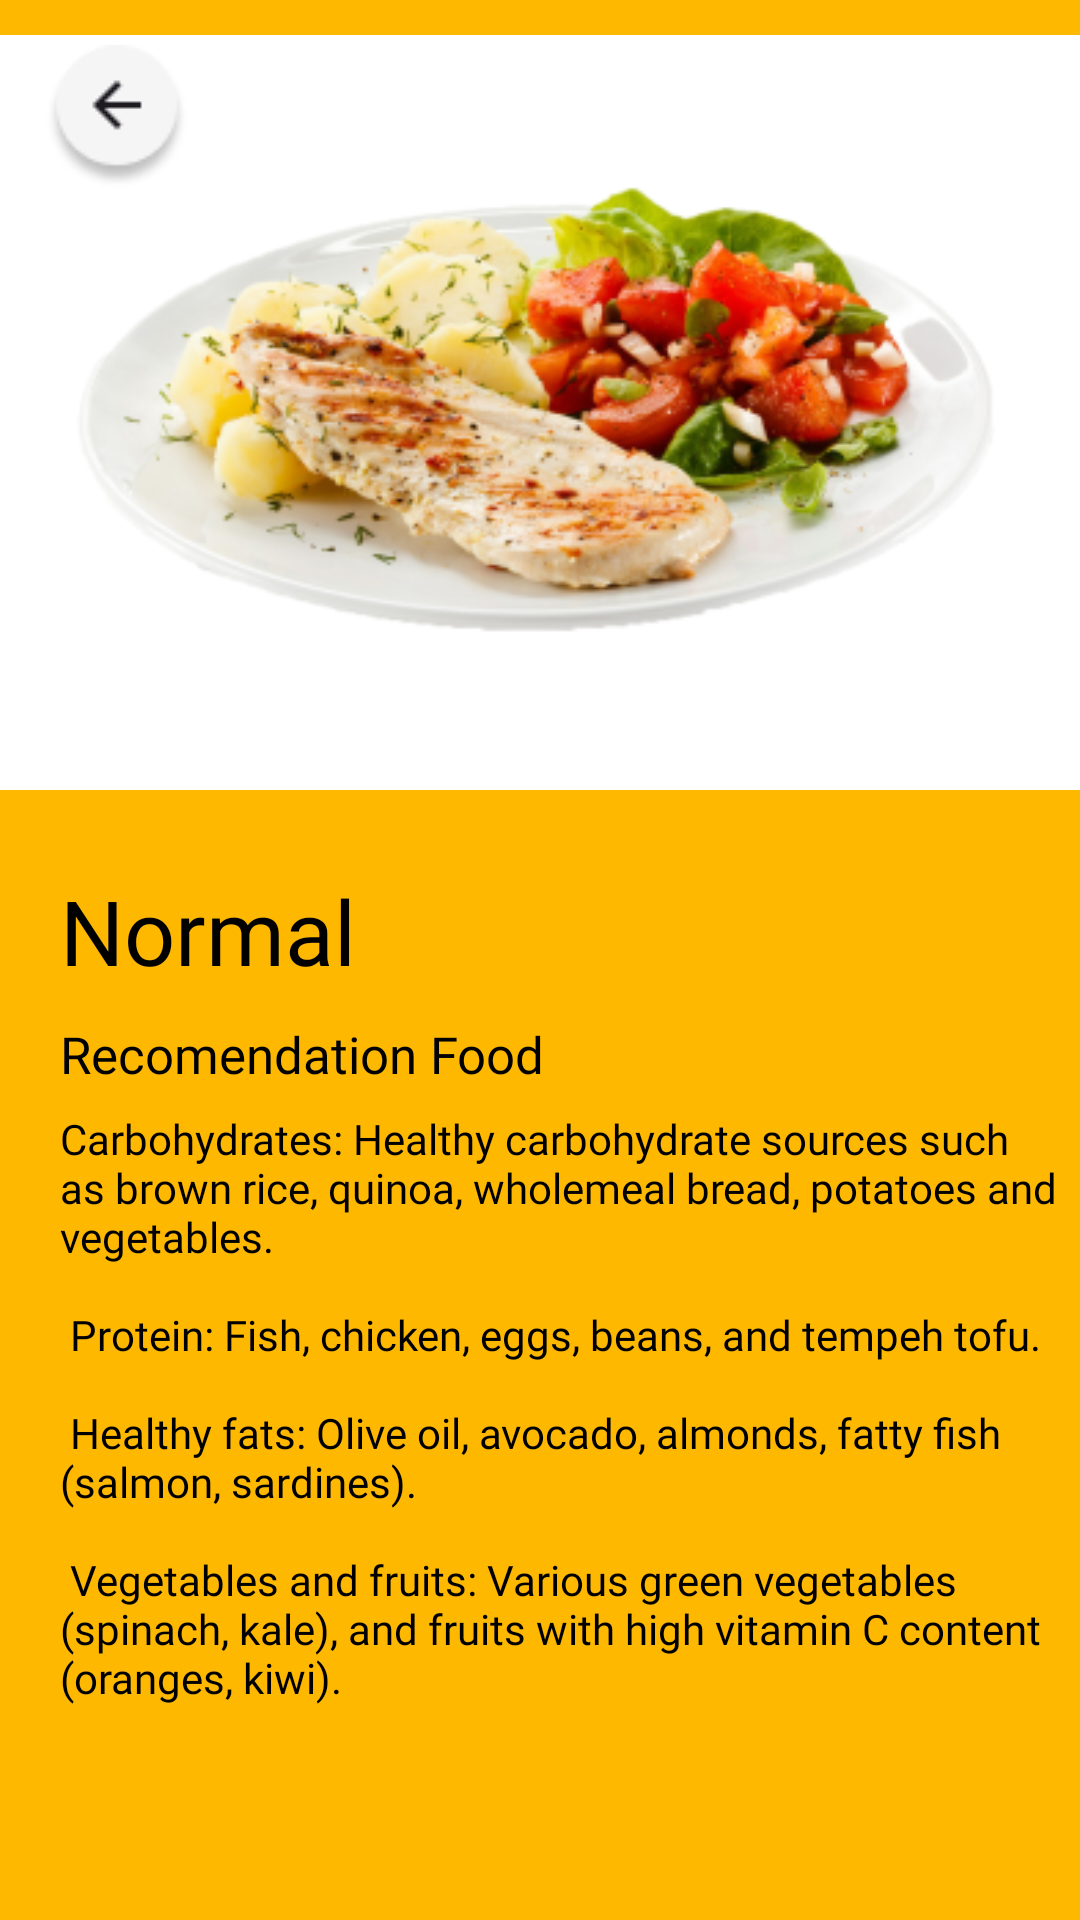

Icon click points for this 1080×1920 phone screenshot, format (x=x, y=y):
back: (x=117, y=114)
